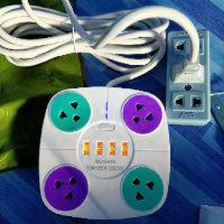three_eye_plug: (36, 83, 174, 222), (159, 25, 213, 128)
